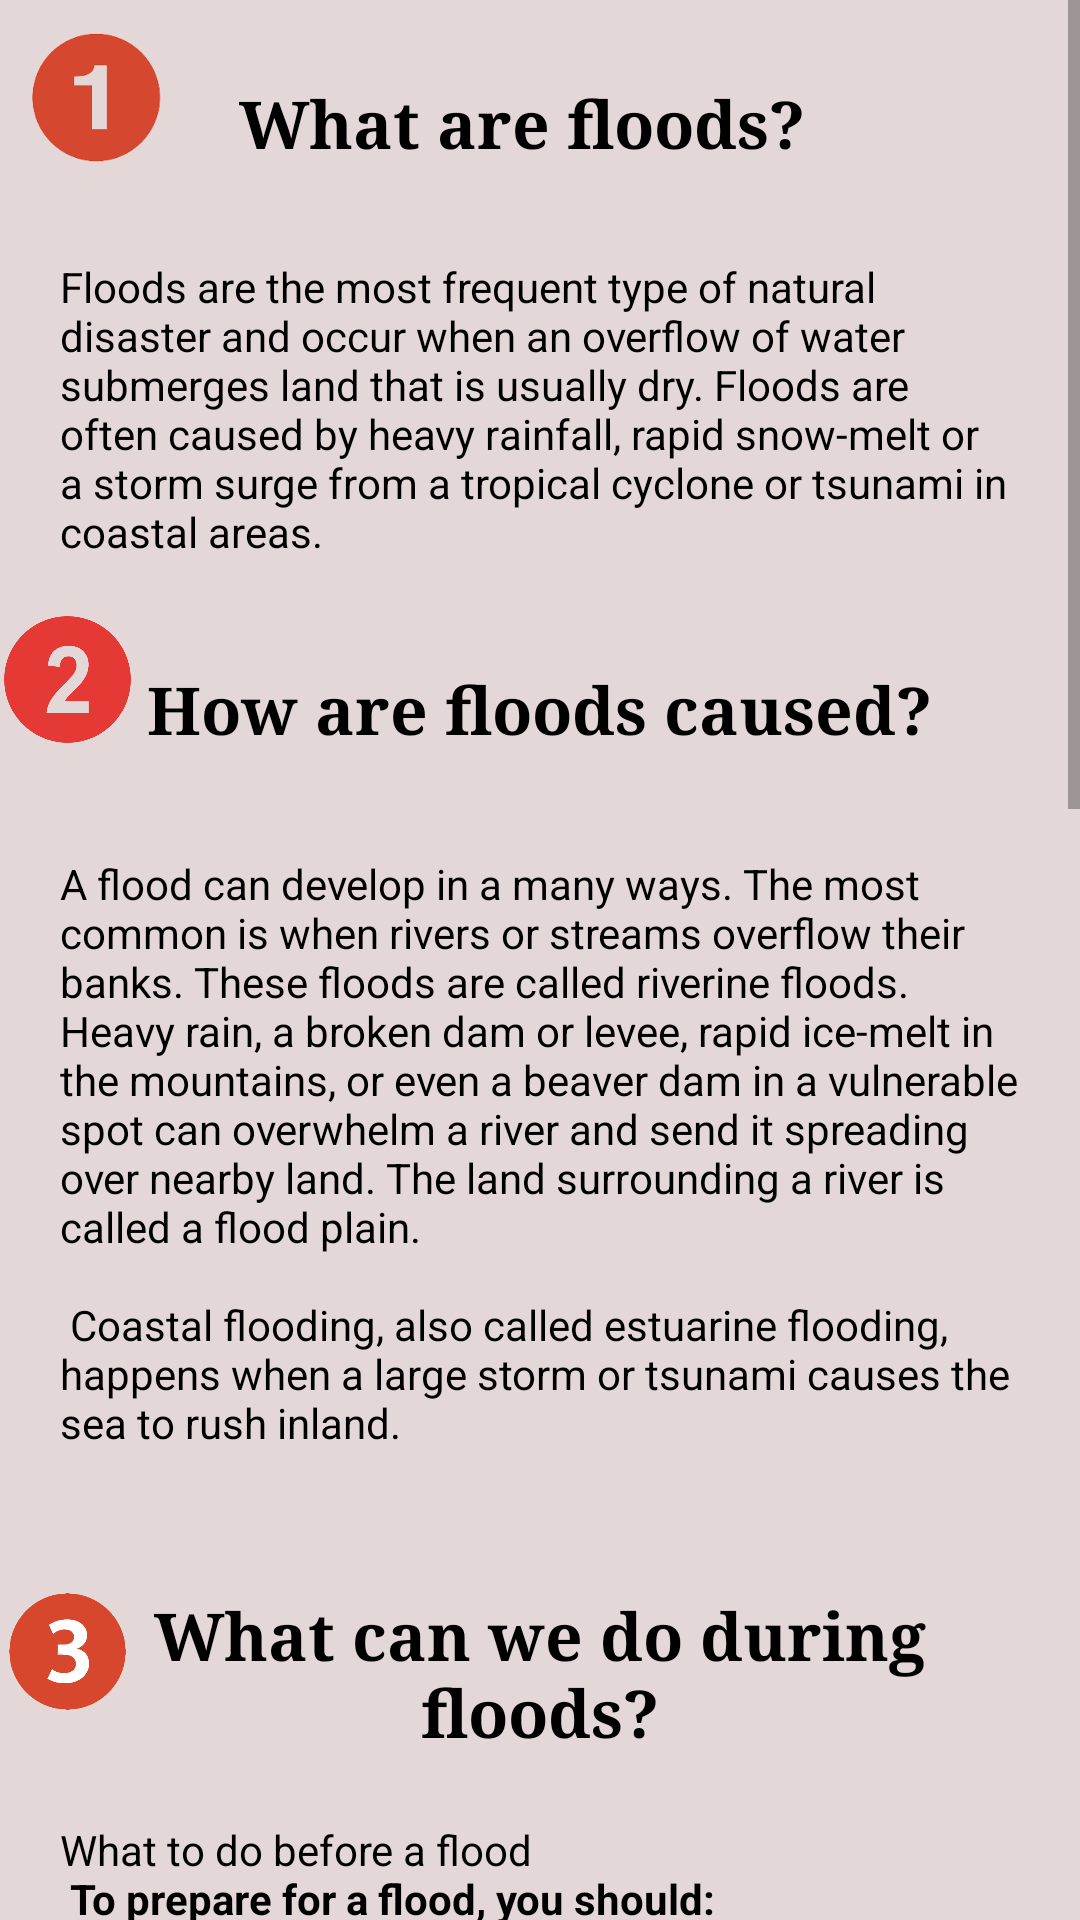

Screen size 1080px x 1920px. Icon name, then its center in pixels as (x=x, y=y):
numberonenew: (x=96, y=97)
numberthreenew: (x=67, y=1651)
numbertwonew: (x=67, y=679)
